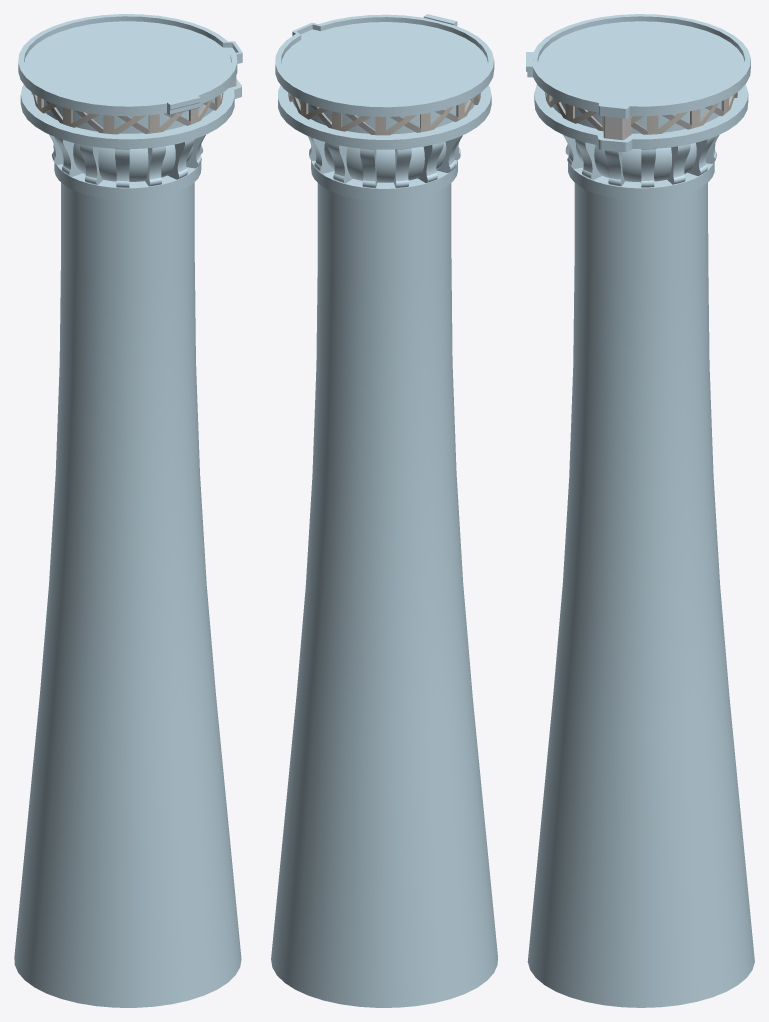
File: towerbasse.fbx
The picture shows the model from 3 angles, left to right: view 1: azimuth 30°, elevation 25°; view 2: azimuth 150°, elevation 25°; view 3: azimuth 270°, elevation 25°; orthographic projection.
Parts seen in each view (by area): view 1: Assembly 1; view 2: Assembly 1; view 3: Assembly 1.
Boxes of the visible parts, x1,y1,x2,y2 form: Assembly 1: (14, 14, 242, 1007); Assembly 1: (271, 14, 497, 1007); Assembly 1: (526, 14, 754, 1007).
Bounding box in the file's own units: 21.69 × 94.35 × 21.73.
